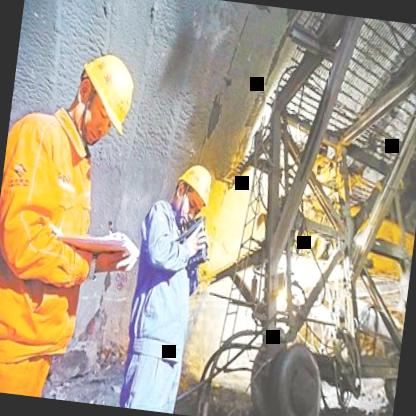helmet: (67, 44, 148, 149), (172, 158, 216, 218)
